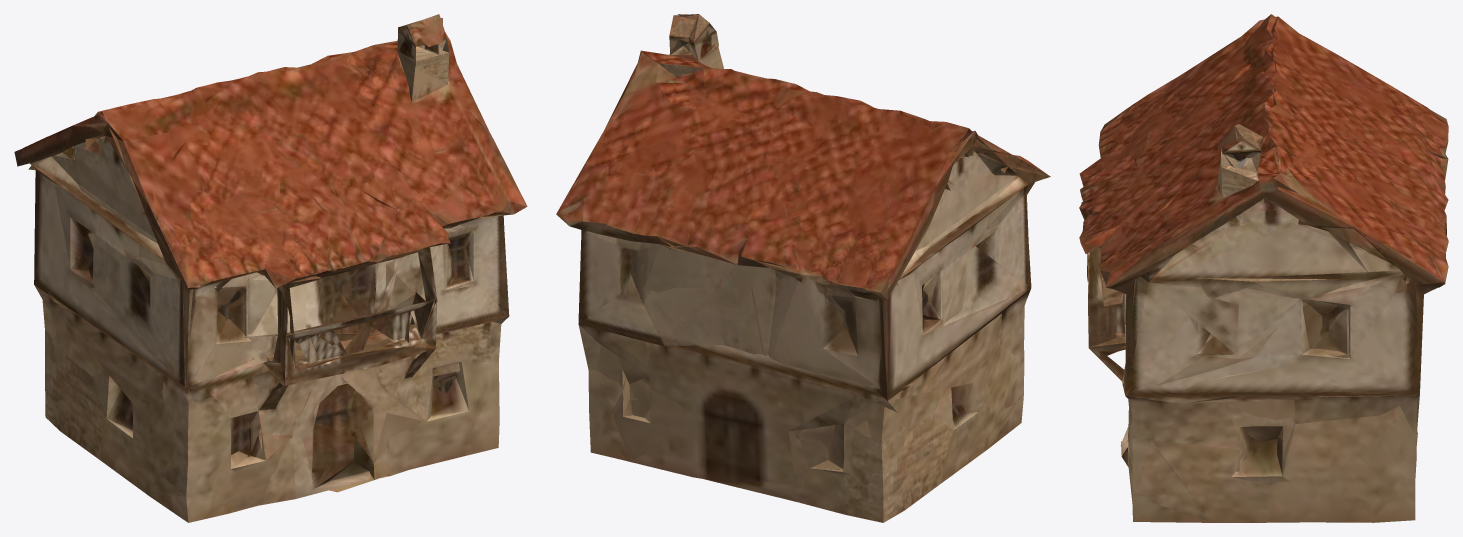
Rendered from townhouse.glb.
3 renders of one model, left to right at view 1: azimuth 30°, elevation 25°; view 2: azimuth 150°, elevation 25°; view 3: azimuth 270°, elevation 25°, orthographic. The views are drawn at different scales.
Size of the model in its own units: 1.73 by 1.9 by 1.66.
1 material, 1 textured.
